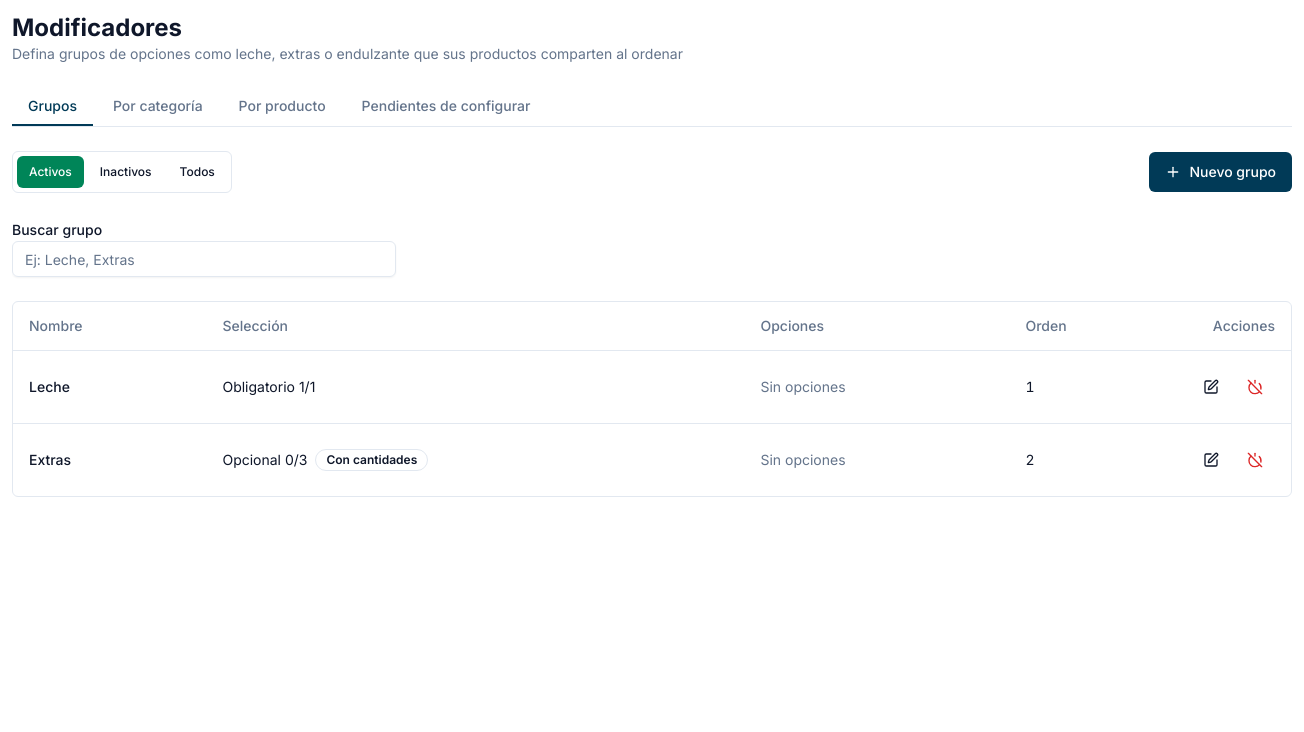
Test: ModifiersPage tabs › Por producto › selects a product by clicking its row and loads the effective panel
Click the tab "Por producto" at (282, 107), box [223,88,342,126]
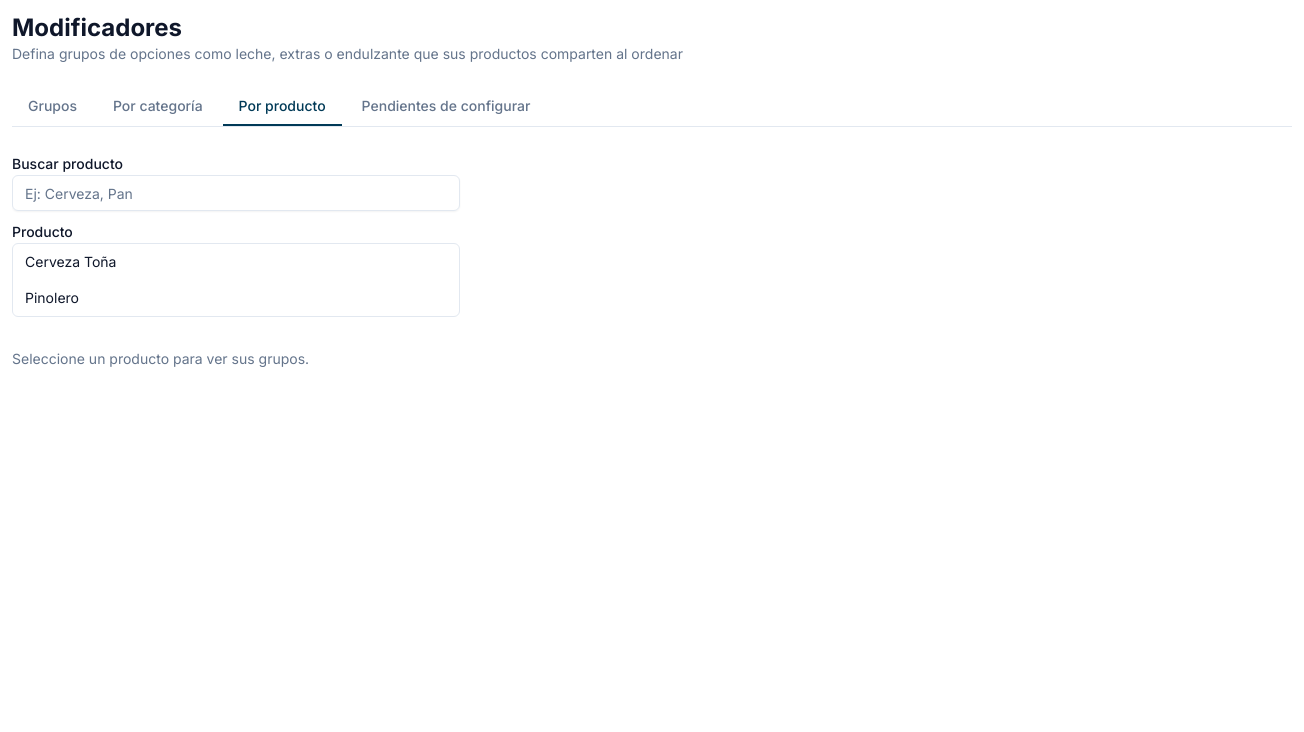
Check: the text "Seleccione un producto para ver sus grupos." is shown, box [12,350,309,367]
Click the option "Pinolero" at (52, 298), box [13,280,459,316]
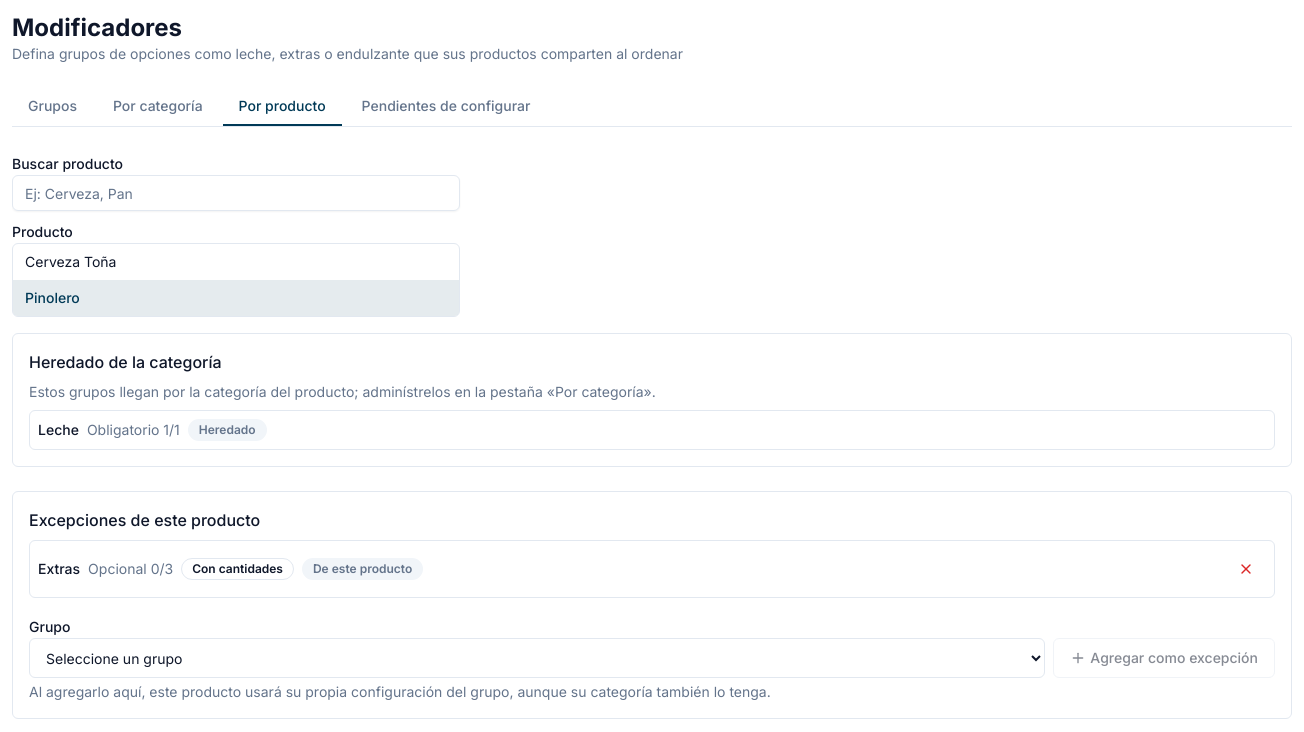
Check: the text "Heredado de la categoría" is shown, box [29,352,222,372]
